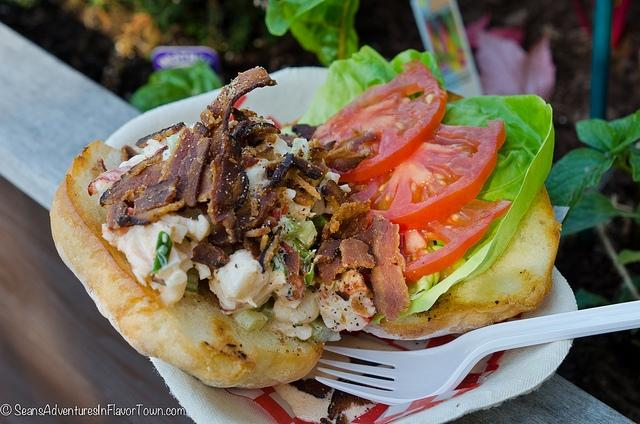lettuce: (396, 94, 554, 319), (296, 44, 448, 126), (265, 0, 358, 67), (149, 59, 222, 96), (150, 230, 172, 276), (309, 319, 342, 343), (296, 219, 318, 250)
tomato: (349, 119, 506, 232), (310, 60, 446, 182), (398, 199, 512, 284)
